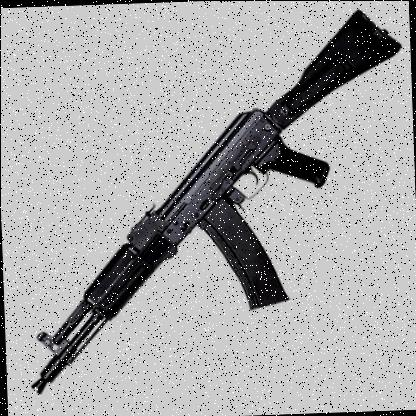rifle: (11, 12, 404, 398)
